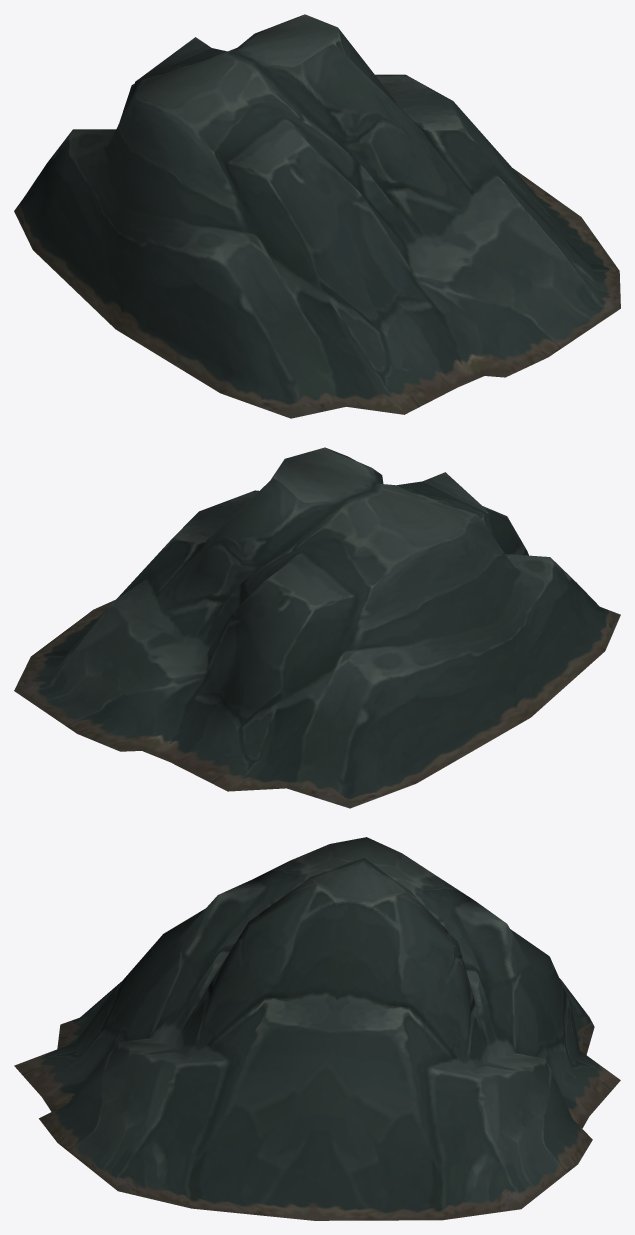
The model's file is oTerHill01a.FBX.
3 renders of one model, top to bottom at view 1: azimuth 30°, elevation 25°; view 2: azimuth 150°, elevation 25°; view 3: azimuth 270°, elevation 25°, orthographic. The views are drawn at different scales.
Parts seen in each view (by area): view 1: oTerHill01a; view 2: oTerHill01a; view 3: oTerHill01a.
Boxes of the visible parts, bbox=[...] form: oTerHill01a: bbox=[14, 14, 620, 418]; oTerHill01a: bbox=[14, 447, 620, 808]; oTerHill01a: bbox=[14, 837, 620, 1220].
Size of the model in its own units: 79.85 by 38.27 by 95.35.
